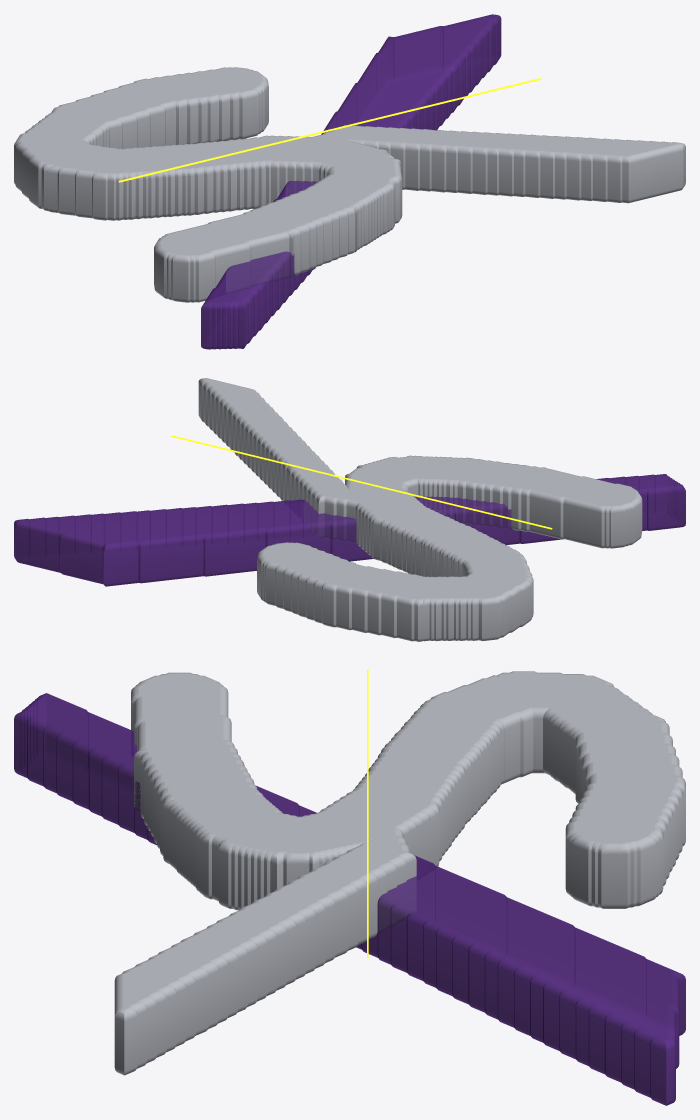
Rendered from saint-kai-02.glb.
The picture shows the model from 3 angles, top to bottom: view 1: azimuth 30°, elevation 25°; view 2: azimuth 150°, elevation 25°; view 3: azimuth 270°, elevation 25°; orthographic projection. The views are drawn at different scales.
Parts seen in each view (by area): view 1: SaintKai02Silver, SaintKai02Purple, AcidSignal; view 2: SaintKai02Silver, SaintKai02Purple, AcidSignal; view 3: SaintKai02Silver, SaintKai02Purple.
Part boxes in pixels (<box>): SaintKai02Silver: <box>14,67,685,302</box>; SaintKai02Purple: <box>201,14,501,349</box>; AcidSignal: <box>118,78,541,182</box>; SaintKai02Silver: <box>198,378,642,641</box>; SaintKai02Purple: <box>14,474,685,586</box>; AcidSignal: <box>171,435,552,529</box>; SaintKai02Silver: <box>114,671,685,1075</box>; SaintKai02Purple: <box>14,693,685,1105</box>.
Bounding box in the file's own units: 2.59 × 0.363 × 2.07.
